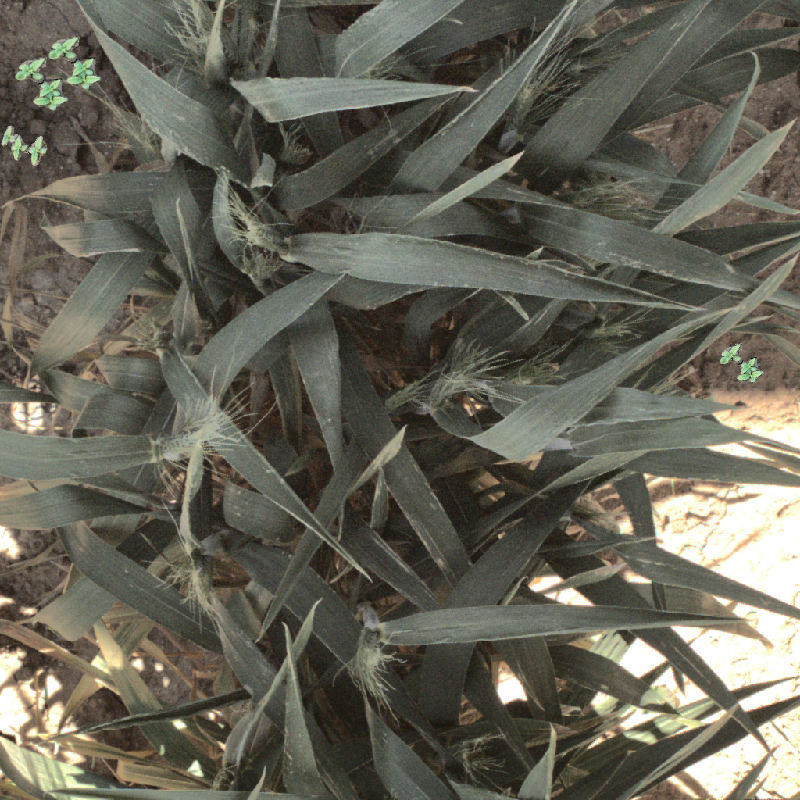spikelet: (150, 416, 221, 464), (346, 636, 392, 698), (176, 556, 220, 618), (503, 76, 541, 133), (241, 215, 286, 253), (128, 310, 167, 352)
weed: (15, 57, 69, 111), (48, 36, 102, 90), (1, 119, 52, 172), (717, 339, 766, 389)
